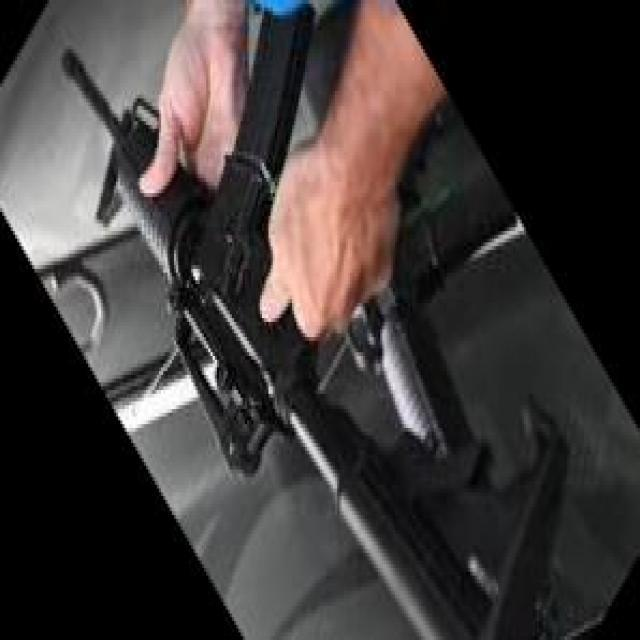weapon: (61, 2, 571, 640)
